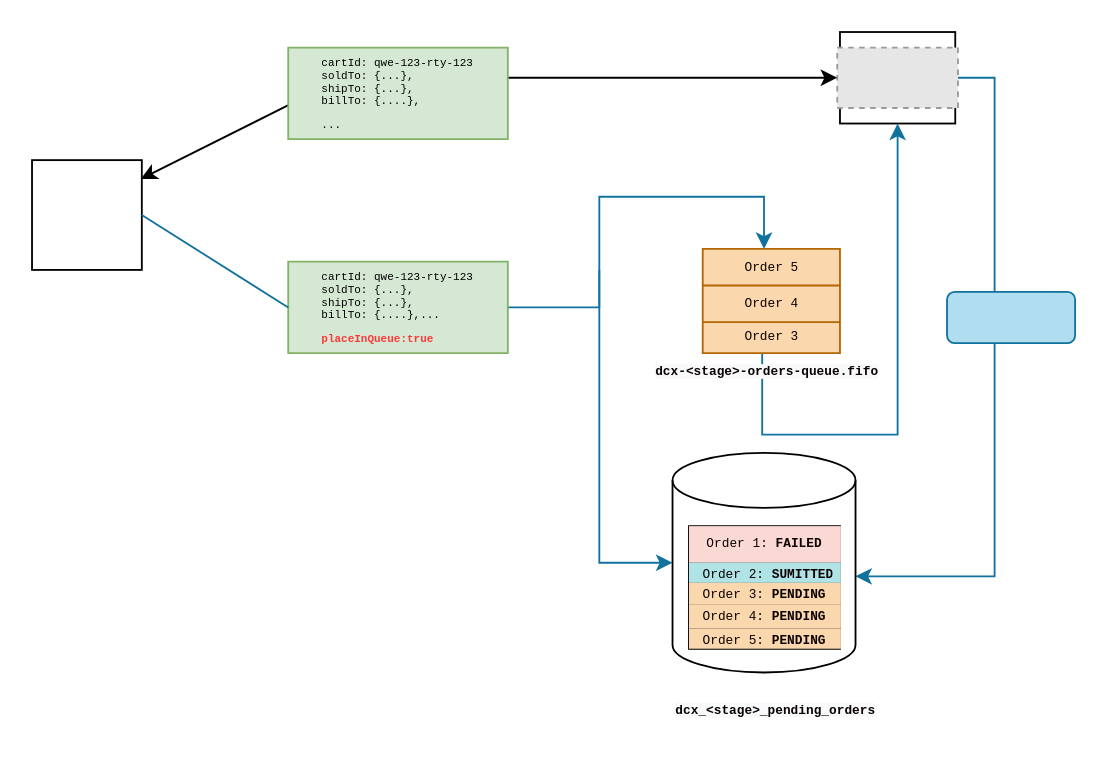
Some shapes in this 1107 by 759 pixel diagram are drawn without their labels. Grey dashed boxes stand in for pictures. The centre of each missing label's shape, as x and y in pixels:
"Error / Response" goes at point (1010, 316).
"OrderSubmit API" goes at point (86, 214).
